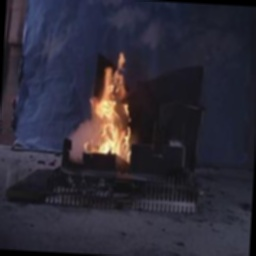fire: (73, 48, 143, 167)
